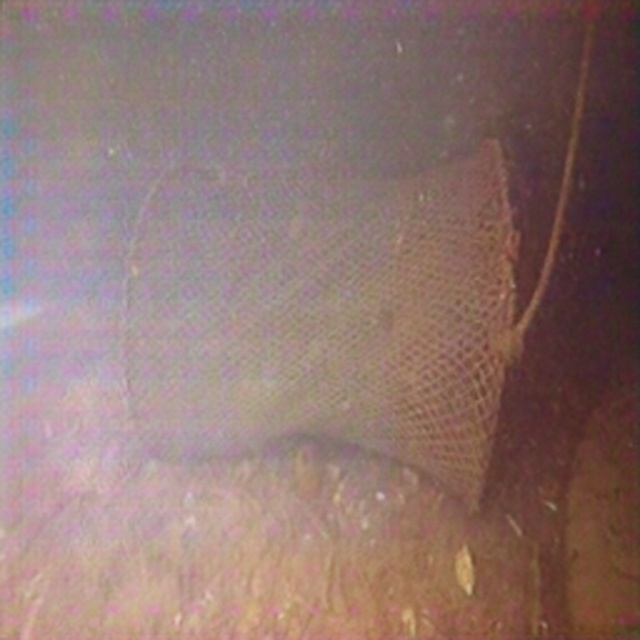mine: (120, 136, 518, 514)
